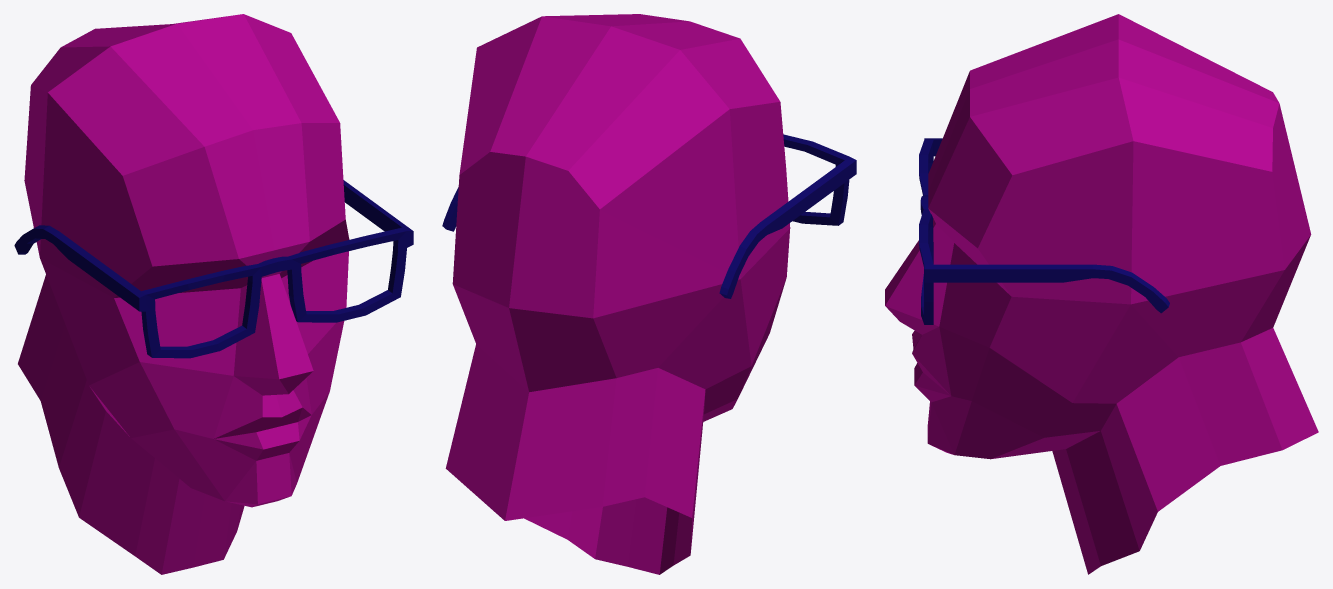
3 views of the same model, side by side, from view 1: azimuth 30°, elevation 25°; view 2: azimuth 150°, elevation 25°; view 3: azimuth 270°, elevation 25° (orthographic). The views are drawn at different scales.
Parts seen in each view (by area): view 1: Plane022, Plane022_1; view 2: Plane022, Plane022_1; view 3: Plane022, Plane022_1.
Boxes of the visible parts, x1,y1,x2,y2 form: Plane022: [18, 14, 349, 574]; Plane022_1: [14, 180, 413, 358]; Plane022: [445, 14, 790, 574]; Plane022_1: [442, 134, 856, 298]; Plane022: [885, 14, 1318, 574]; Plane022_1: [919, 138, 1169, 324].
Size of the model in its own units: 2.83 by 5.25 by 3.96.
